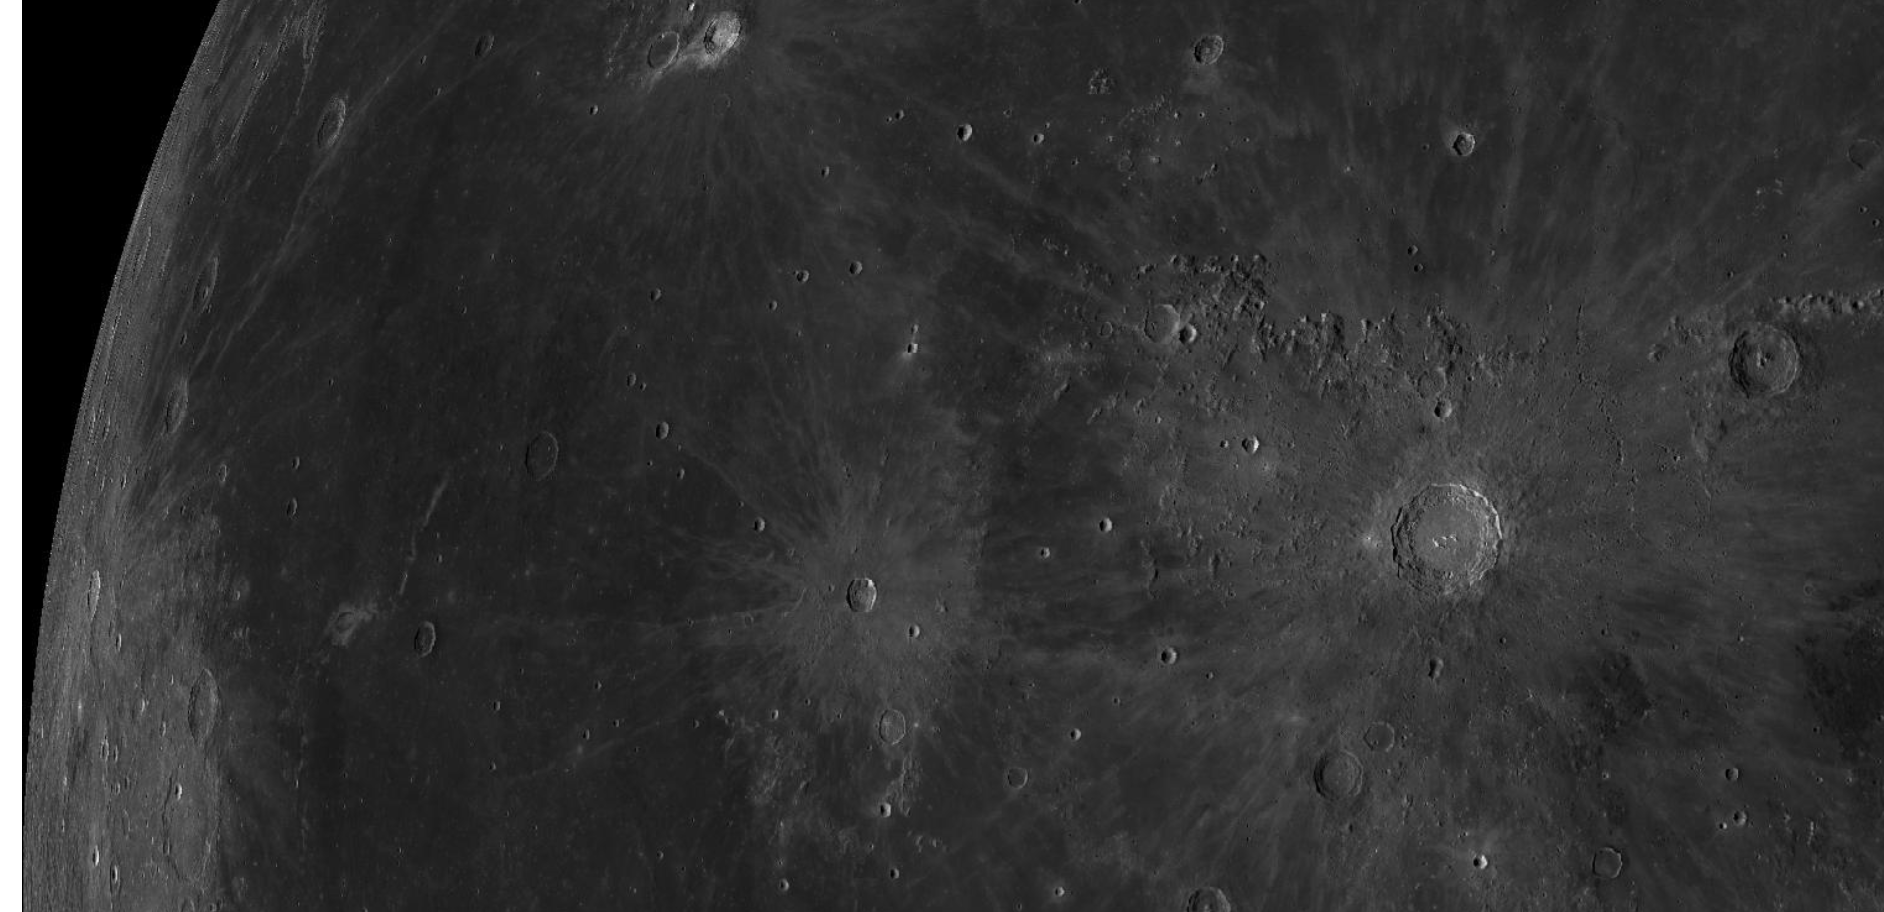crater: (735, 473, 1023, 821), (1325, 443, 1561, 661), (1688, 280, 1846, 461), (1145, 2, 1308, 99), (147, 363, 250, 500), (499, 398, 591, 509), (1292, 732, 1375, 847), (175, 646, 246, 776), (291, 89, 382, 181), (387, 588, 469, 687), (1561, 815, 1655, 899), (1421, 107, 1510, 187), (690, 1, 776, 83), (632, 250, 688, 332), (1713, 744, 1764, 793)
